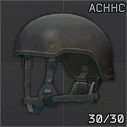Highcom Striker ACHHC IIIA helmet Olive: (0, 0, 127, 127)
